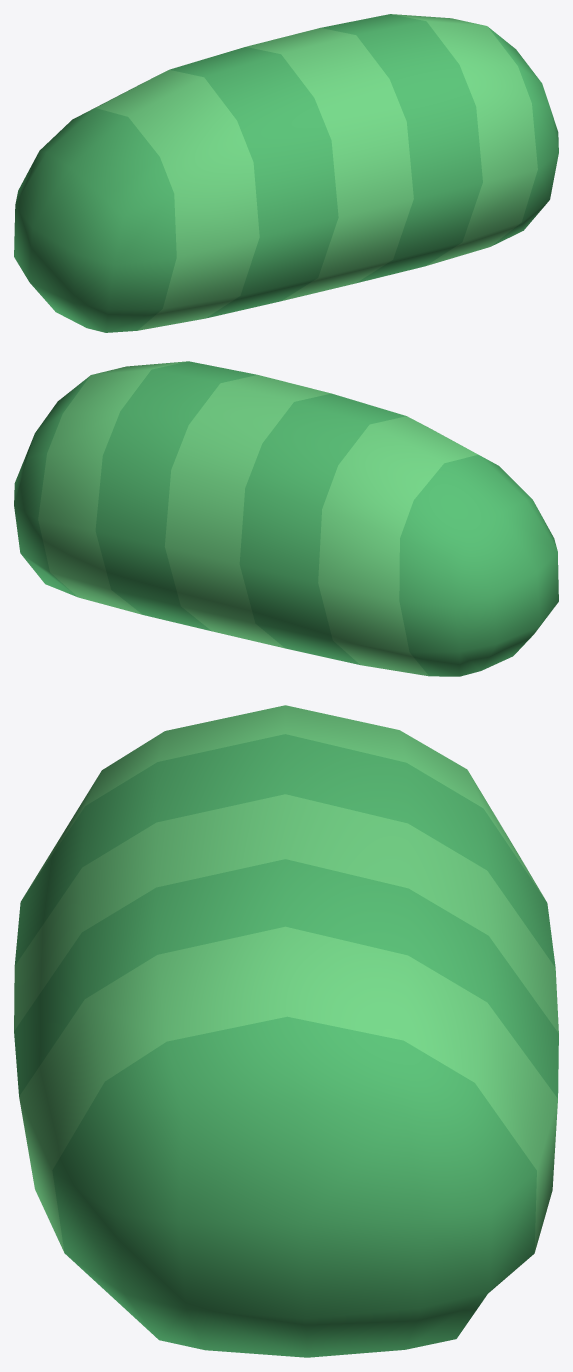
The model's file is Bush_E_03_LOD2.gltf.
3 renders of one model, top to bottom at view 1: azimuth 30°, elevation 25°; view 2: azimuth 150°, elevation 25°; view 3: azimuth 270°, elevation 25°, orthographic. The views are drawn at different scales.
Visible parts, largest first — view 1: Bush_E_03_LOD2_Cube.652; view 2: Bush_E_03_LOD2_Cube.652; view 3: Bush_E_03_LOD2_Cube.652.
Part boxes in pixels (x1,y1,x2,y2): Bush_E_03_LOD2_Cube.652: (14,14,558,332); Bush_E_03_LOD2_Cube.652: (14,361,558,676); Bush_E_03_LOD2_Cube.652: (14,705,558,1357).
Size of the model in its own units: 8.4 by 3.3 by 4.31.
1 material, 1 textured.
